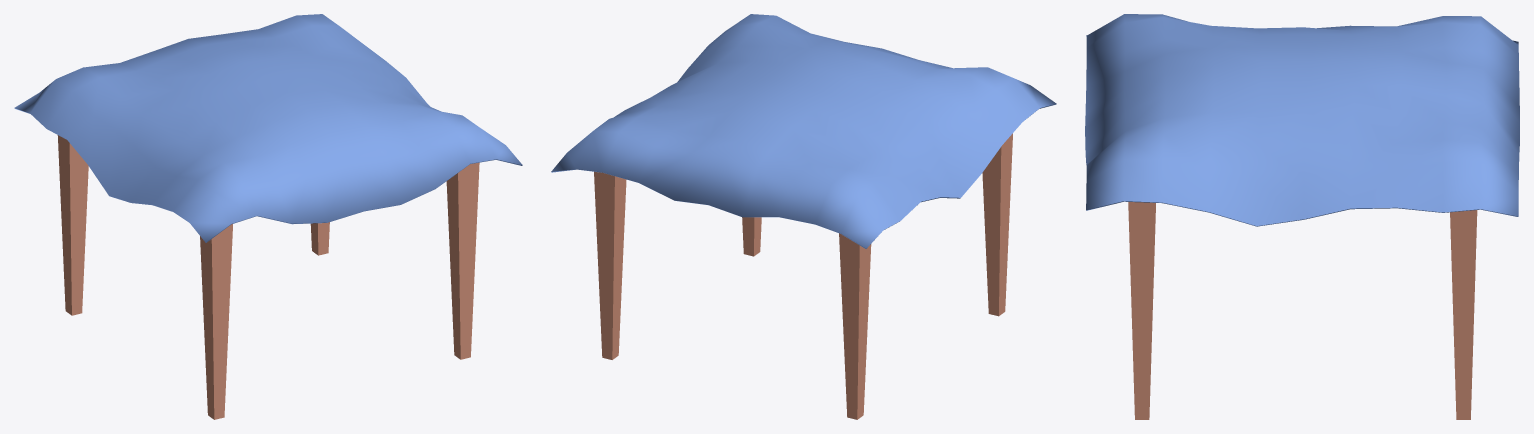
Rendered from Hut.fbx.
The picture shows the model from 3 angles, left to right: view 1: azimuth 30°, elevation 25°; view 2: azimuth 150°, elevation 25°; view 3: azimuth 270°, elevation 25°; orthographic projection. The views are drawn at different scales.
Visible parts, largest first — view 1: Hut; view 2: Hut; view 3: Hut.
Part boxes in pixels (x1=…): Hut: x1=14, y1=14, x2=522, y2=419; Hut: x1=551, y1=14, x2=1056, y2=419; Hut: x1=1085, y1=14, x2=1519, y2=419.
Size of the model in its own units: 228 by 174 by 238.
